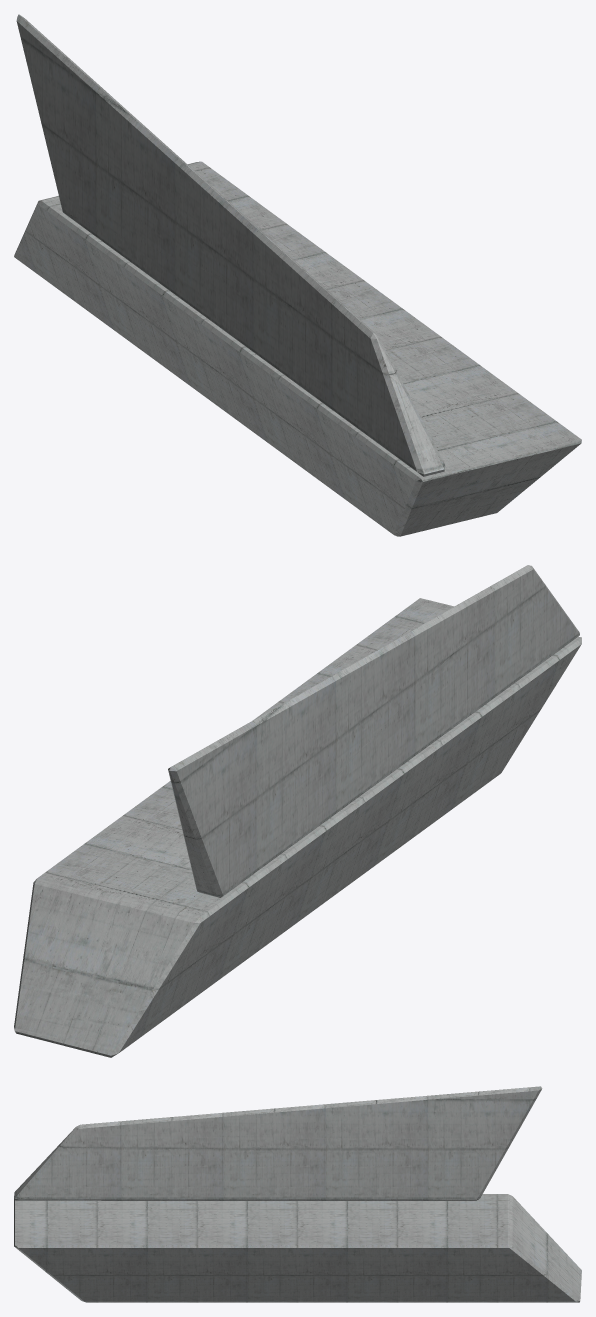
Rendered from concrete bench.obj.
The picture shows the model from 3 angles, top to bottom: view 1: azimuth 30°, elevation 25°; view 2: azimuth 150°, elevation 25°; view 3: azimuth 270°, elevation 25°; orthographic projection. The views are drawn at different scales.
Parts seen in each view (by area): view 1: sjedalo, top; view 2: sjedalo, top; view 3: sjedalo, top.
Part boxes in pixels (x1=…): sjedalo: x1=14, y1=161, x2=581, y2=536; top: x1=16, y1=14, x2=445, y2=476; sjedalo: x1=14, y1=598, x2=581, y2=1057; top: x1=168, y1=565, x2=579, y2=897; sjedalo: x1=14, y1=1194, x2=581, y2=1302; top: x1=14, y1=1086, x2=542, y2=1200.
Bounding box in the file's own units: 32.86 × 51.65 × 150.
Materials: 1 (1 with a texture image).
